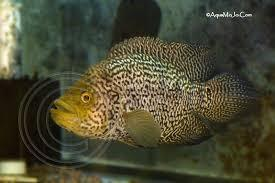Jaguar Gapote: (51, 37, 256, 150)
